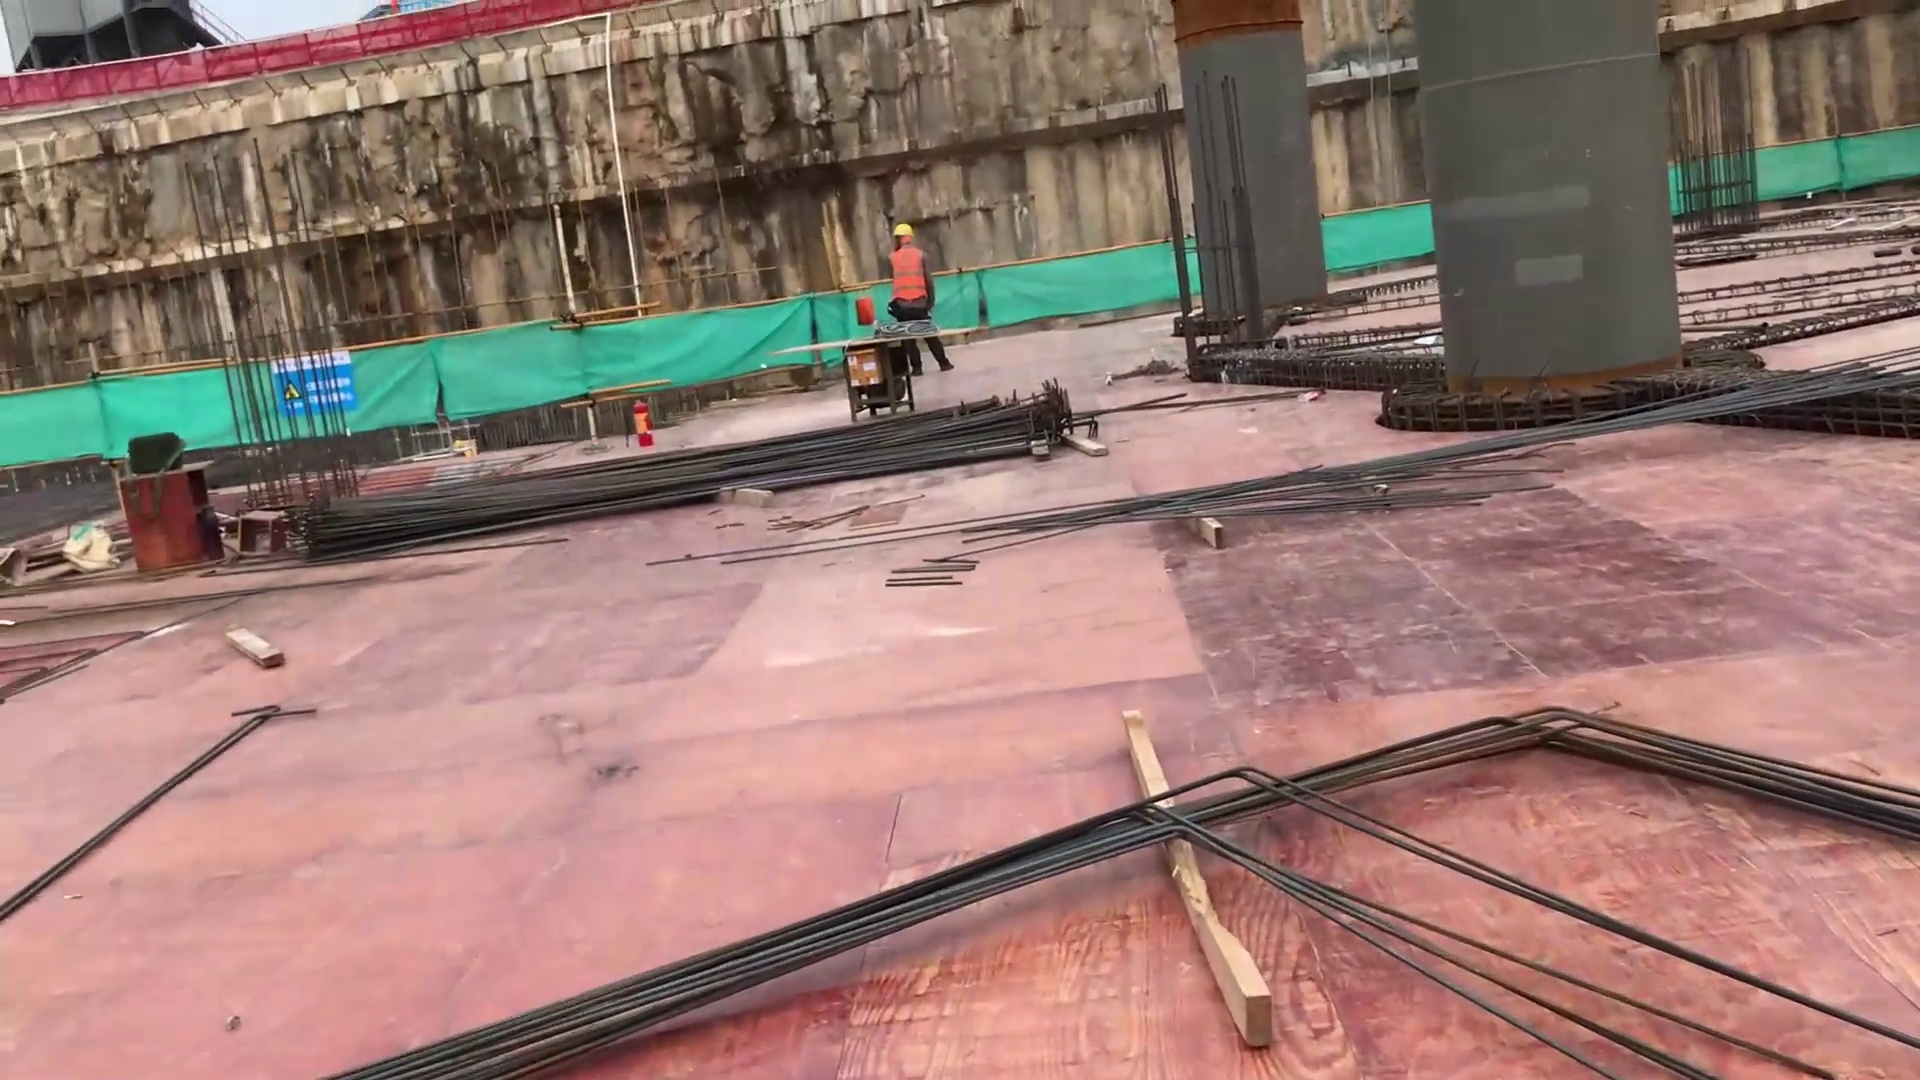cutter: (771, 321, 974, 418)
helmet: (891, 221, 912, 239)
person: (886, 215, 956, 379)
rebar: (314, 707, 1593, 1080), (300, 377, 1082, 556)
slogan: (270, 348, 358, 418)
vest: (887, 245, 928, 300)
